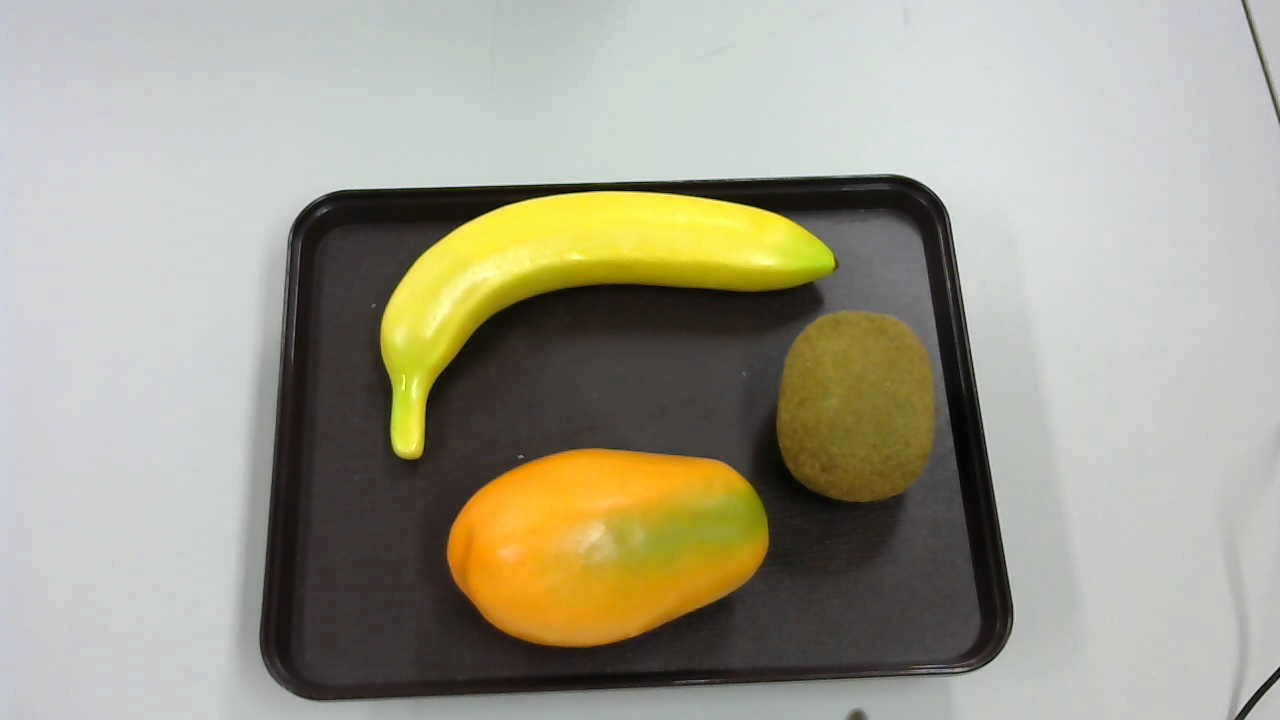banana: (381, 185, 841, 459)
kiwi fruit: (776, 308, 941, 513)
papya: (435, 448, 774, 652)
